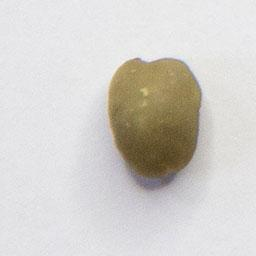peaberry: (105, 55, 205, 183)
